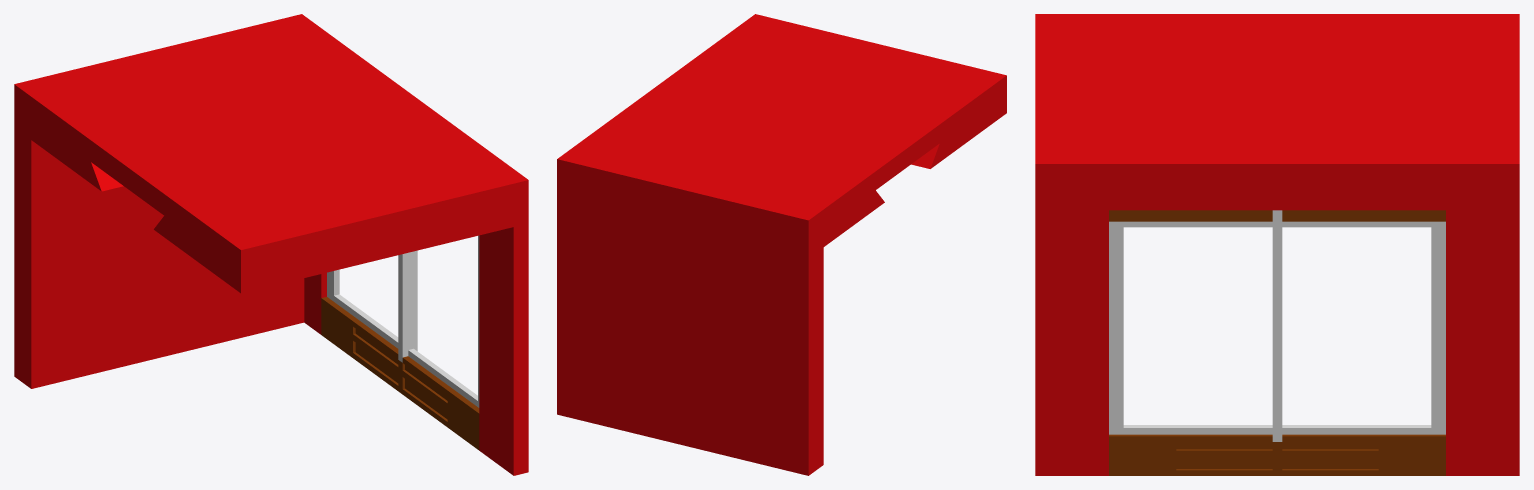
File: fenetre.fbx
3 renders of one model, left to right at view 1: azimuth 30°, elevation 25°; view 2: azimuth 150°, elevation 25°; view 3: azimuth 270°, elevation 25°, orthographic. The views are drawn at different scales.
Visible parts, largest first — view 1: Cube; view 2: Cube; view 3: Cube.
Boxes of the visible parts, <box> form: Cube: <box>14,14,528,475</box>; Cube: <box>557,14,1006,475</box>; Cube: <box>1035,14,1519,475</box>.
Size of the model in its own units: 331 by 322 by 453.
